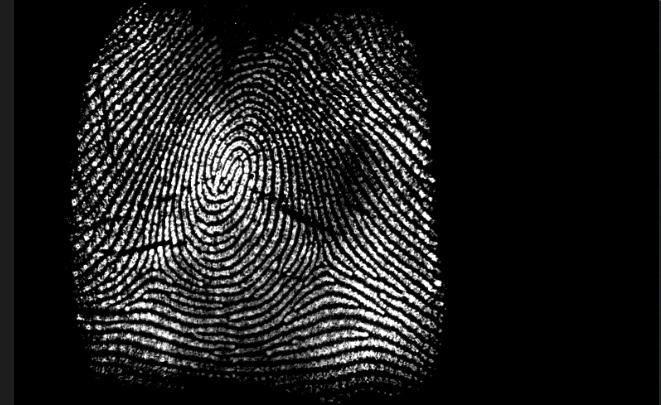deltas: (292, 237, 348, 296), (125, 240, 179, 293)
nucleo: (195, 127, 257, 201)
